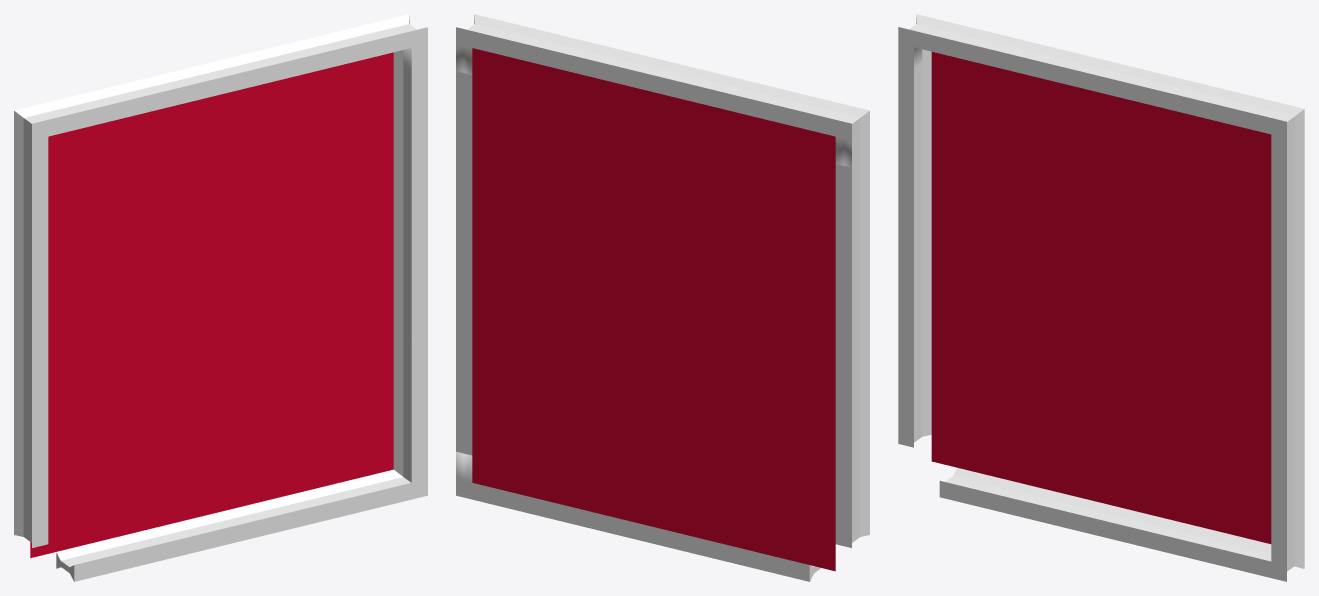
Rendered from map1.fbx.
3 renders of one model, left to right at view 1: azimuth 30°, elevation 25°; view 2: azimuth 150°, elevation 25°; view 3: azimuth 330°, elevation 25°, orthographic.
Parts seen in each view (by area): view 1: [scale]floor].002, [wall3][thick].002, [wall3][thick].001, [wall3][thick].003, [wall3][thick].004, [corner4].003, [corner4].002, [corner4].001; view 2: [scale]floor].002, [wall3][thick].001, [wall3][thick].004, [wall3][thick].002, [wall3][thick].003, [corner4].003, [corner4].001, [corner4].002; view 3: [scale]floor].002, [wall3][thick].002, [wall3][thick].001, [wall3][thick].003, [wall3][thick].004, [corner4].001, [corner4].002, [corner4].003.
Part boxes in pixels (bbox=[...]): [scale]floor].002: bbox=[30, 52, 393, 557]; [wall3][thick].002: bbox=[393, 62, 427, 455]; [wall3][thick].001: bbox=[14, 154, 48, 547]; [wall3][thick].003: bbox=[56, 476, 385, 581]; [wall3][thick].004: bbox=[56, 24, 385, 130]; [corner4].003: bbox=[14, 100, 74, 167]; [corner4].002: bbox=[368, 442, 427, 505]; [corner4].001: bbox=[368, 14, 427, 74]; [scale]floor].002: bbox=[472, 48, 835, 571]; [wall3][thick].001: bbox=[835, 154, 869, 547]; [wall3][thick].004: bbox=[498, 24, 827, 130]; [wall3][thick].002: bbox=[456, 71, 472, 455]; [wall3][thick].003: bbox=[498, 489, 820, 581]; [corner4].003: bbox=[809, 100, 869, 167]; [corner4].001: bbox=[456, 14, 515, 74]; [corner4].002: bbox=[456, 451, 498, 505]; [scale]floor].002: bbox=[931, 52, 1271, 543]; [wall3][thick].002: bbox=[1271, 152, 1304, 538]; [wall3][thick].001: bbox=[898, 61, 931, 447]; [wall3][thick].003: bbox=[939, 468, 1262, 571]; [wall3][thick].004: bbox=[939, 24, 1262, 127]; [corner4].001: bbox=[1245, 99, 1304, 164]; [corner4].002: bbox=[1245, 526, 1304, 581]; [corner4].003: bbox=[898, 14, 956, 73].
Size of the model in its own units: 7621 by 8621 by 600.
